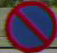No waiting: (1, 1, 54, 47)
